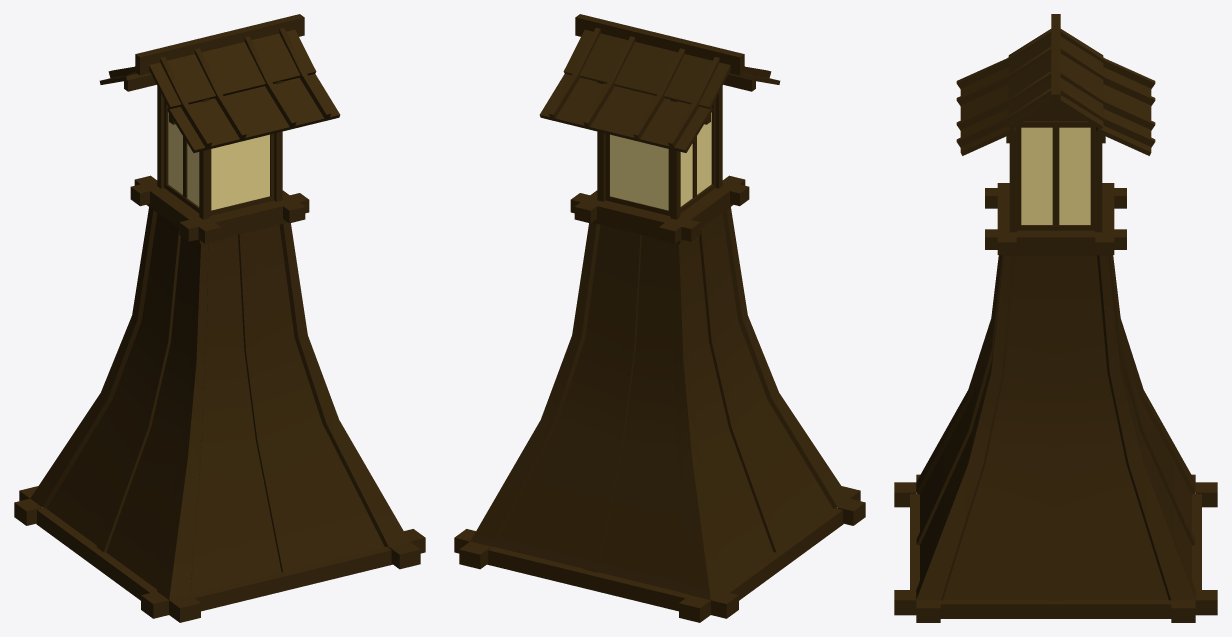
The model's file is Light_00.FBX.
3 views of the same model, side by side, from view 1: azimuth 30°, elevation 25°; view 2: azimuth 150°, elevation 25°; view 3: azimuth 270°, elevation 25° (orthographic).
Parts seen in each view (by area): view 1: Japanese Street Lamp001; view 2: Japanese Street Lamp001; view 3: Japanese Street Lamp001.
Boxes of the visible parts, x1=… form: Japanese Street Lamp001: x1=14, y1=14, x2=425, y2=622; Japanese Street Lamp001: x1=454, y1=14, x2=865, y2=622; Japanese Street Lamp001: x1=894, y1=14, x2=1217, y2=622.
Size of the model in its own units: 4.12 by 7.22 by 4.21.
